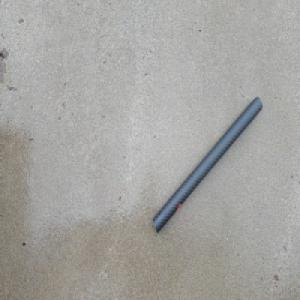LuggagePart: (152, 94, 263, 235)
